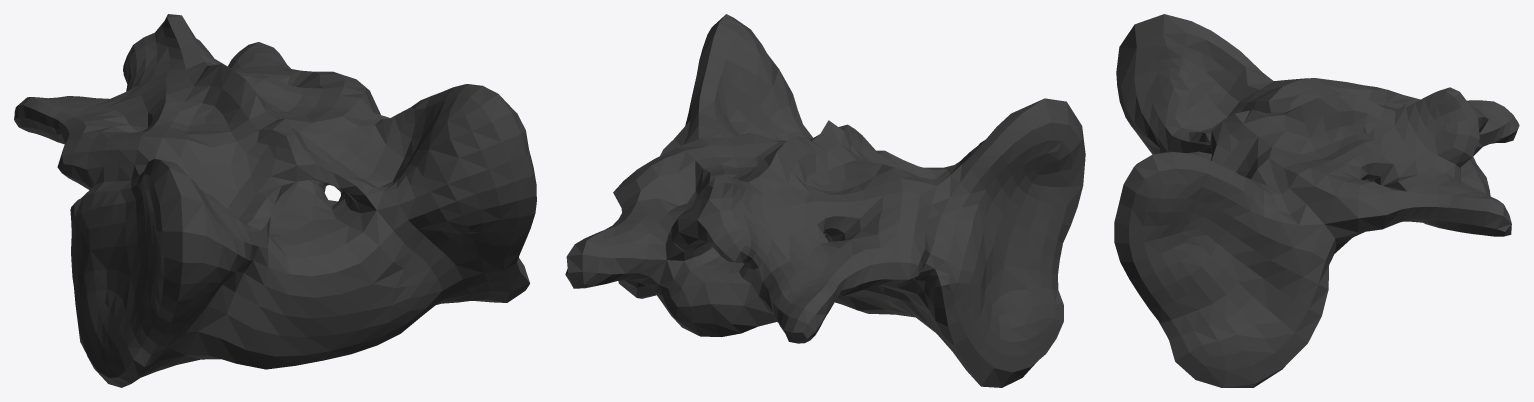
The model's file is Sacrum.glb.
The picture shows the model from 3 angles, left to right: view 1: azimuth 30°, elevation 25°; view 2: azimuth 150°, elevation 25°; view 3: azimuth 270°, elevation 25°; orthographic projection. The views are drawn at different scales.
Visible parts, largest first — view 1: Sacrum; view 2: Sacrum; view 3: Sacrum.
Boxes of the visible parts, bbox=[...] form: Sacrum: bbox=[14, 14, 536, 387]; Sacrum: bbox=[565, 14, 1085, 387]; Sacrum: bbox=[1114, 14, 1519, 387].
Bounding box in the file's own units: 3.2 × 1.88 × 3.1.
1 material, 1 textured.
